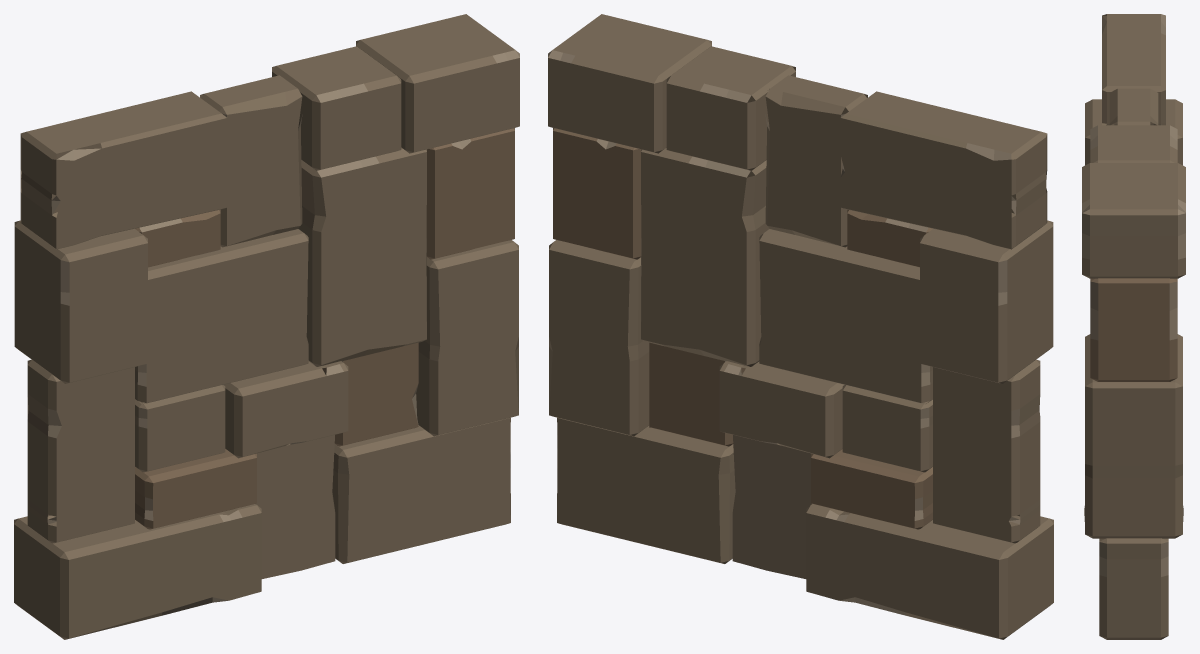
File: wall_modular.glb
3 views of the same model, side by side, from view 1: azimuth 30°, elevation 25°; view 2: azimuth 150°, elevation 25°; view 3: azimuth 270°, elevation 25° (orthographic). The views are drawn at different scales.
Parts seen in each view (by area): view 1: Wall_Modular; view 2: Wall_Modular; view 3: Wall_Modular.
Boxes of the visible parts, left/top/right/bottom form: Wall_Modular: left=14, top=14, right=519, bottom=639; Wall_Modular: left=548, top=14, right=1053, bottom=639; Wall_Modular: left=1082, top=14, right=1185, bottom=639.
Bounding box in the file's own units: 2 × 2.01 × 0.438.
